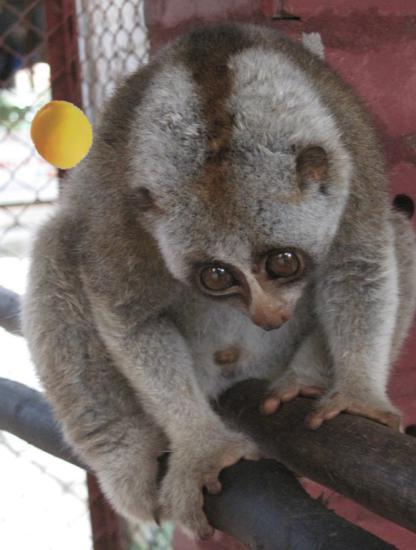Peach: (27, 99, 98, 170)
